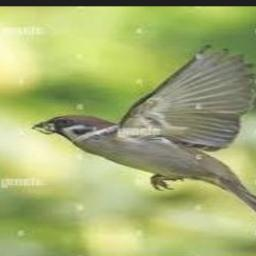Sparrow: (33, 45, 256, 220)
